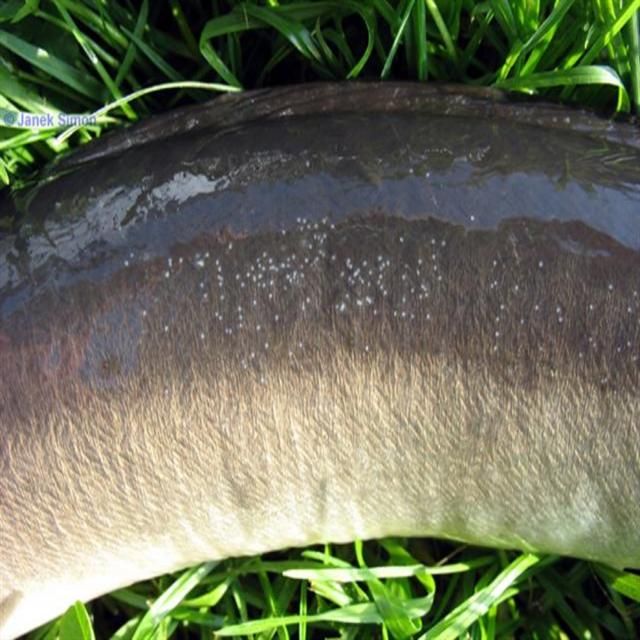Freshwater-Eel: (0, 124, 640, 609)
